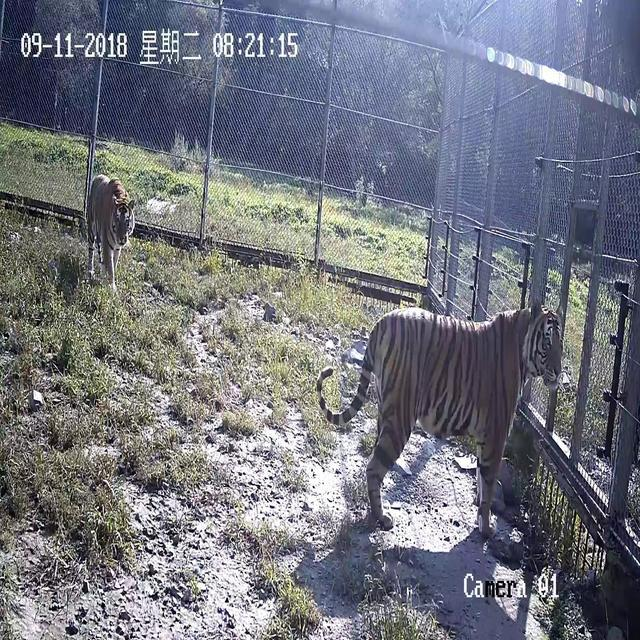tiger: (315, 302, 568, 538), (85, 173, 135, 291)
